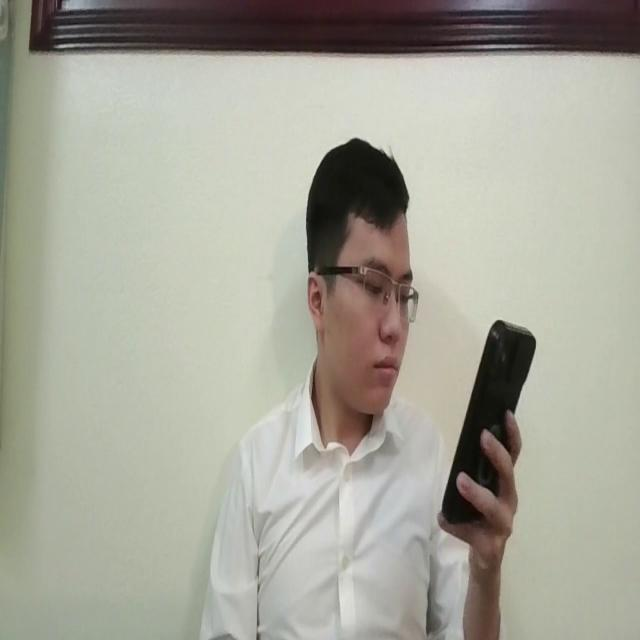phone: (441, 314, 536, 524)
student: (198, 126, 522, 640)
